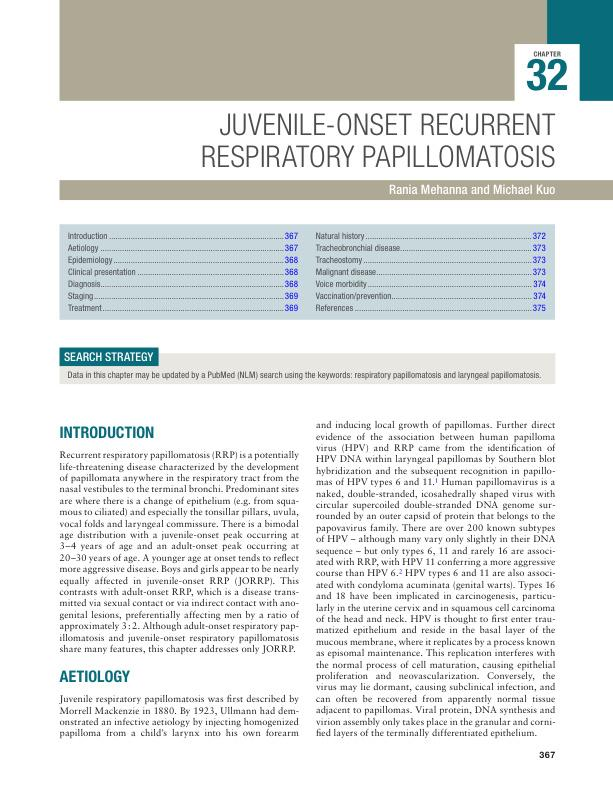chapter-heading: (200, 110, 557, 170)
section-heading: (57, 424, 156, 440), (58, 668, 132, 684)
text: (315, 419, 556, 739), (58, 449, 300, 656), (58, 693, 300, 740), (67, 370, 542, 381)
